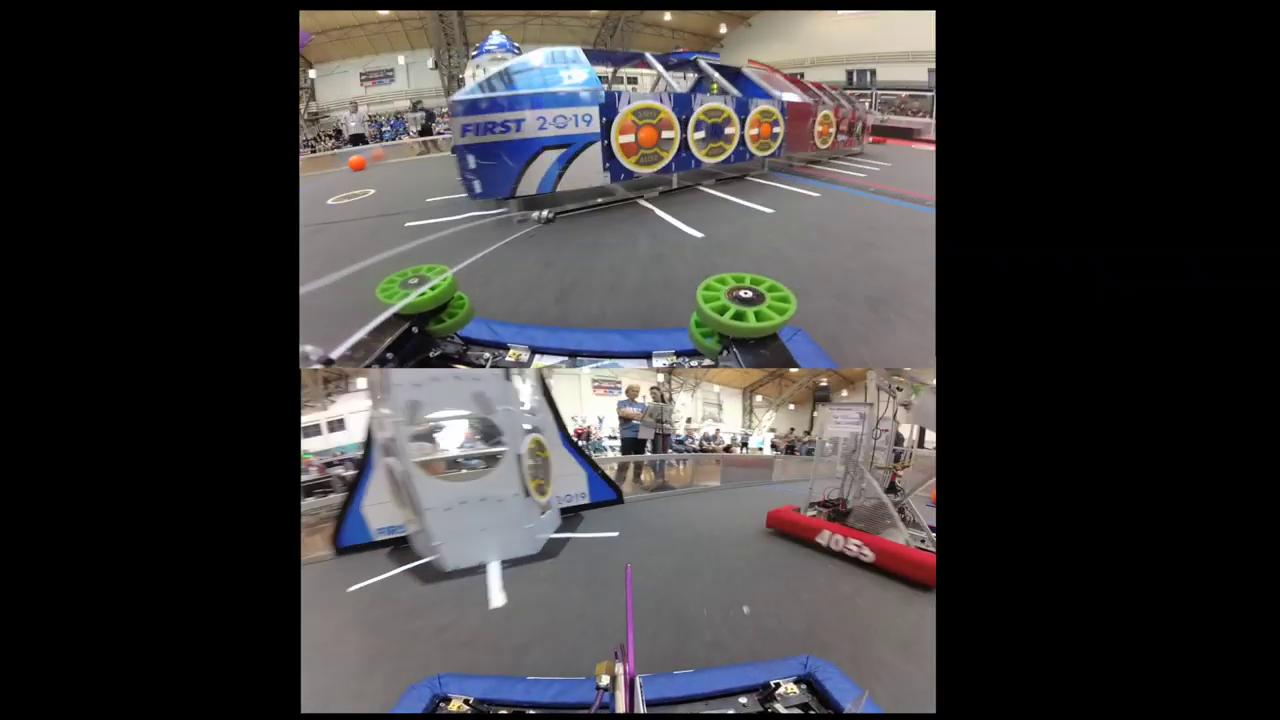robot: (765, 368, 936, 594)
